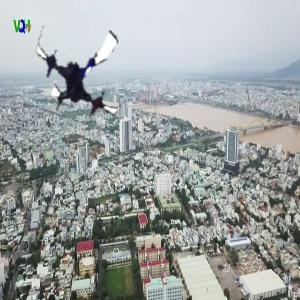drone: (27, 13, 140, 126)
